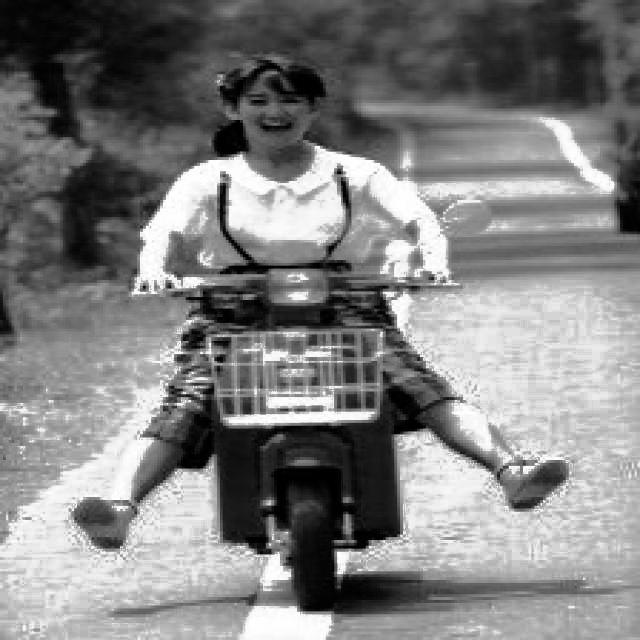Bike: (181, 271, 427, 611)
